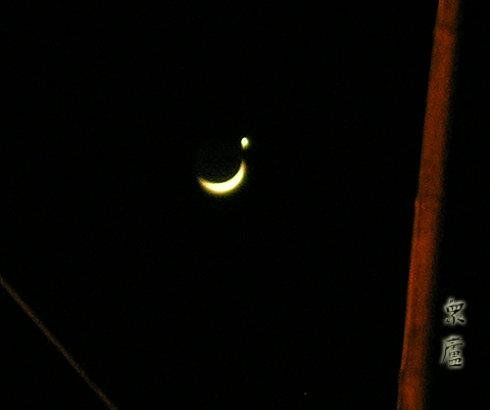moon: (194, 158, 248, 198)
